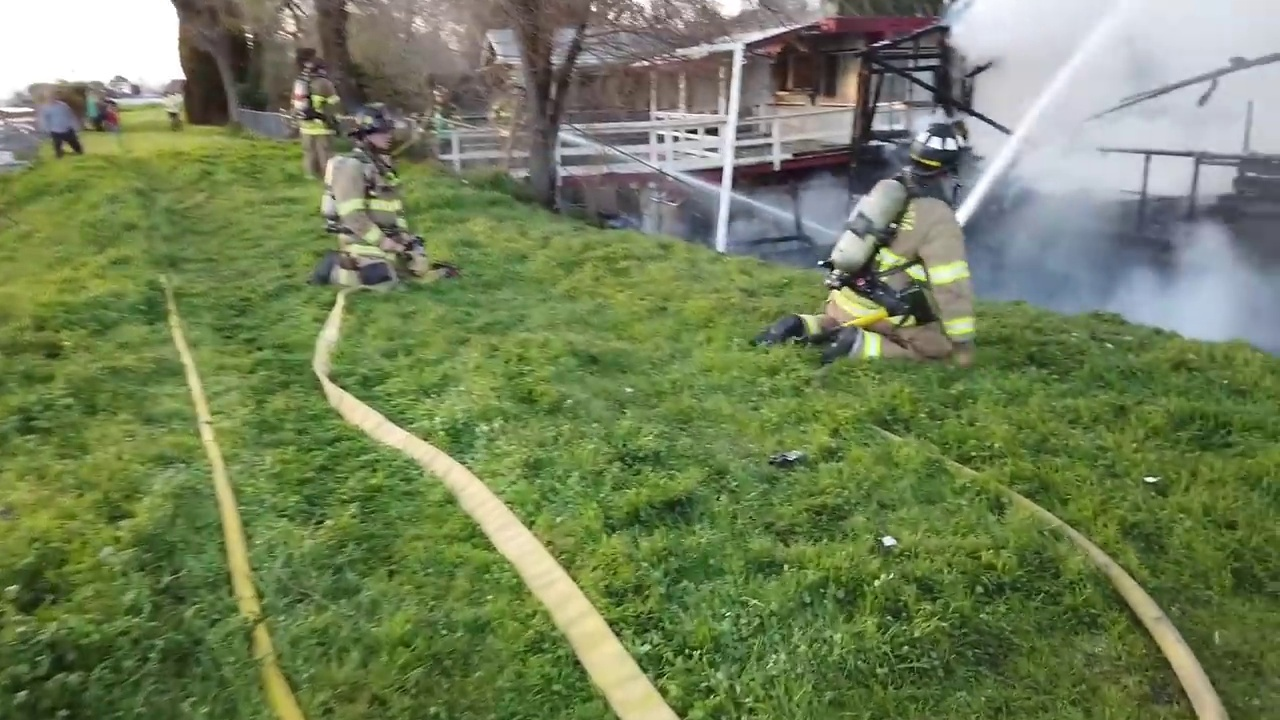smoke: (988, 212, 1274, 350), (1117, 7, 1280, 209), (950, 30, 1031, 119), (1027, 131, 1115, 209), (952, 1, 1102, 30), (1061, 83, 1114, 132)
